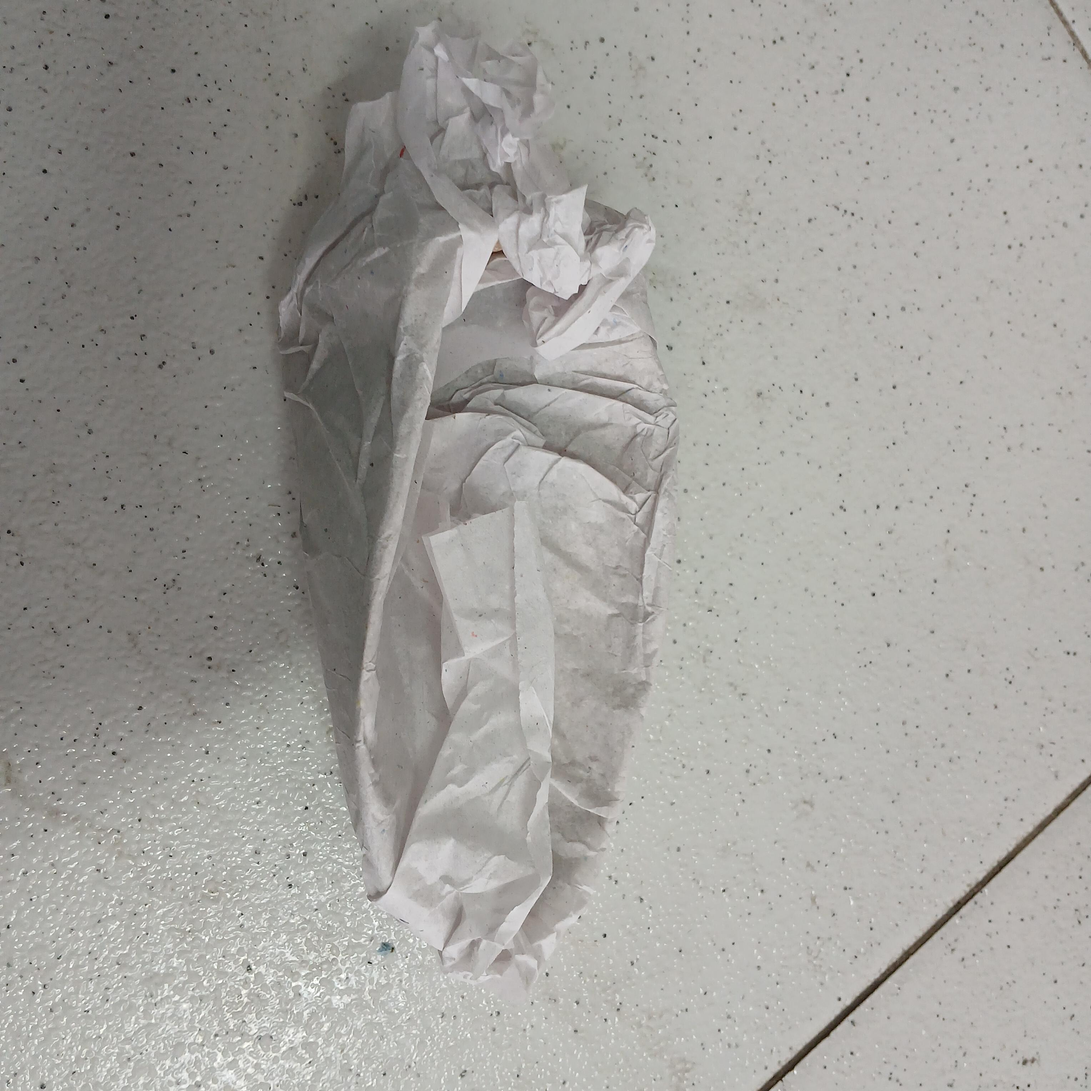Papel: (277, 21, 683, 1009)
